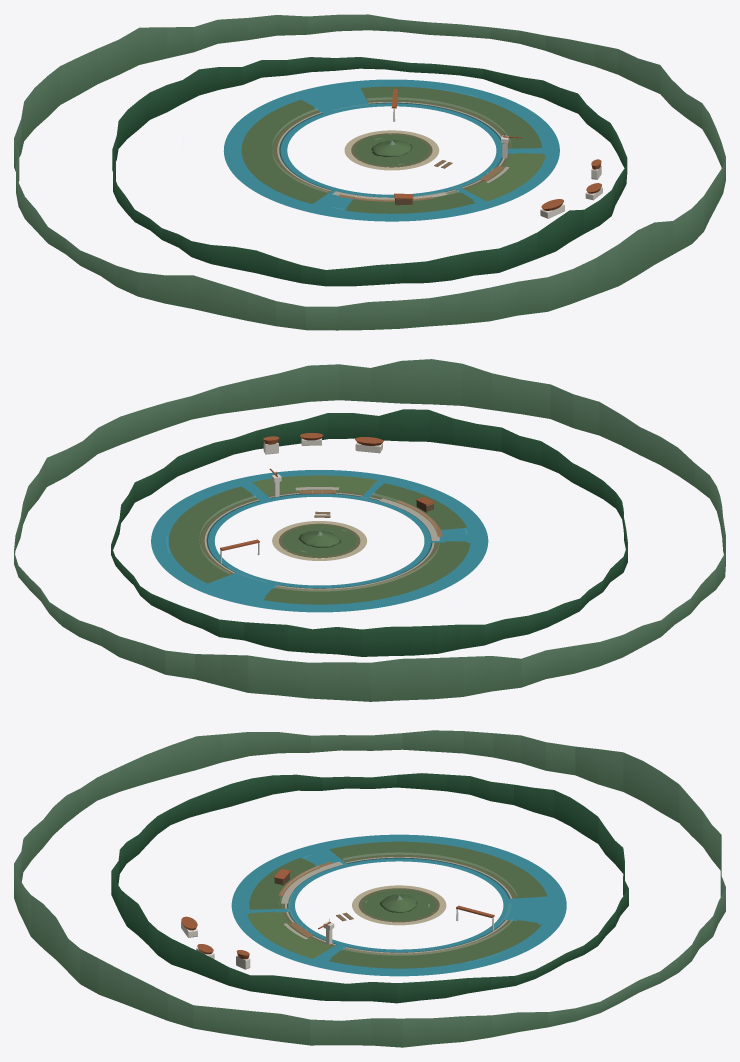
Rendered from rowplay-venue-rower-ultra.glb.
3 renders of one model, top to bottom at view 1: azimuth 30°, elevation 25°; view 2: azimuth 150°, elevation 25°; view 3: azimuth 270°, elevation 25°, orthographic.
Visible parts, largest first — view 1: environment:rower:horizon-far, environment:rower:horizon-mid, environment:rower:apron, environment:rower:bank-terrace-3, environment:rower:bank-terrace-2, environment:rower:bank-terrace-4, environment:rower:island-lawn, environment:rower:grass-bank-3, environment:rower:bank-terrace-1, environment:rower:grass-bank-2, environment:rower:island-beach, environment:rower:island-mound (+1 smaller); view 2: environment:rower:horizon-far, environment:rower:horizon-mid, environment:rower:apron, environment:rower:bank-terrace-3, environment:rower:bank-terrace-2, environment:rower:island-lawn, environment:rower:grass-bank-3, environment:rower:bank-terrace-4, environment:rower:grass-bank-2, environment:rower:bank-terrace-1, environment:rower:island-beach; view 3: environment:rower:horizon-far, environment:rower:horizon-mid, environment:rower:apron, environment:rower:bank-terrace-3, environment:rower:bank-terrace-2, environment:rower:bank-terrace-4, environment:rower:island-lawn, environment:rower:grass-bank-2, environment:rower:grass-bank-3, environment:rower:bank-terrace-1, environment:rower:island-beach, environment:rower:island-mound.
Part boxes in pixels (bbox=[...]): environment:rower:horizon-far: bbox=[14, 14, 725, 330]; environment:rower:horizon-mid: bbox=[112, 57, 627, 286]; environment:rower:apron: bbox=[223, 79, 559, 221]; environment:rower:bank-terrace-3: bbox=[244, 100, 324, 201]; environment:rower:bank-terrace-2: bbox=[361, 86, 538, 146]; environment:rower:bank-terrace-4: bbox=[469, 153, 543, 199]; environment:rower:island-lawn: bbox=[355, 134, 428, 165]; environment:rower:grass-bank-3: bbox=[241, 101, 328, 203]; environment:rower:bank-terrace-1: bbox=[346, 192, 473, 210]; environment:rower:grass-bank-2: bbox=[360, 88, 541, 148]; environment:rower:island-beach: bbox=[344, 130, 439, 170]; environment:rower:island-mound: bbox=[371, 140, 412, 156]; environment:rower:horizon-far: bbox=[14, 359, 725, 701]; environment:rower:horizon-mid: bbox=[111, 409, 627, 656]; environment:rower:apron: bbox=[151, 470, 488, 612]; environment:rower:bank-terrace-3: bbox=[264, 541, 467, 601]; environment:rower:bank-terrace-2: bbox=[172, 486, 252, 580]; environment:rower:island-lawn: bbox=[282, 525, 356, 556]; environment:rower:grass-bank-3: bbox=[263, 542, 470, 604]; environment:rower:bank-terrace-4: bbox=[253, 475, 376, 491]; environment:rower:grass-bank-2: bbox=[169, 489, 255, 583]; environment:rower:bank-terrace-1: bbox=[375, 483, 463, 528]; environment:rower:island-beach: bbox=[272, 521, 366, 560]; environment:rower:horizon-far: bbox=[14, 730, 725, 1047]; environment:rower:horizon-mid: bbox=[111, 773, 628, 1003]; environment:rower:apron: bbox=[231, 834, 566, 976]; environment:rower:bank-terrace-3: bbox=[331, 841, 544, 896]; environment:rower:bank-terrace-2: bbox=[330, 920, 538, 965]; environment:rower:bank-terrace-4: bbox=[249, 911, 328, 957]; environment:rower:island-lawn: bbox=[362, 889, 435, 920]; environment:rower:grass-bank-2: bbox=[329, 920, 541, 968]; environment:rower:grass-bank-3: bbox=[329, 849, 547, 898]; environment:rower:bank-terrace-1: bbox=[252, 858, 315, 907]; environment:rower:island-beach: bbox=[352, 885, 446, 925]; environment:rower:island-mound: bbox=[380, 894, 417, 913].
Bounding box in the file's own units: 231 × 16.33 × 234.
